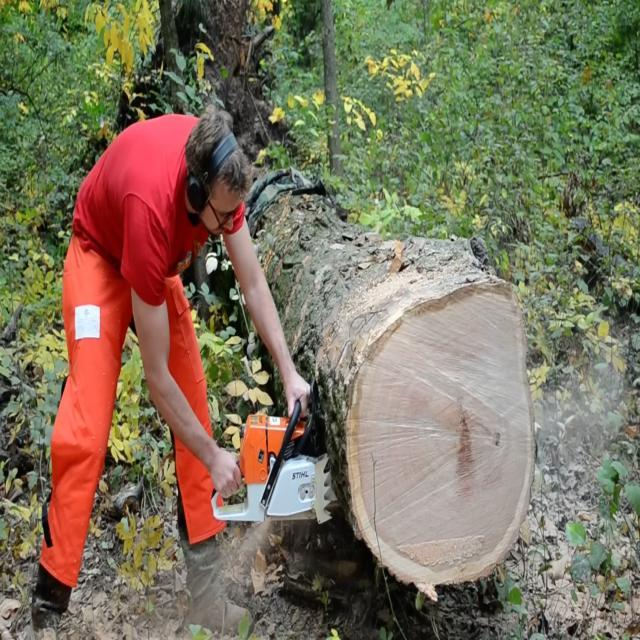Chainsaw: (198, 406, 348, 536)
